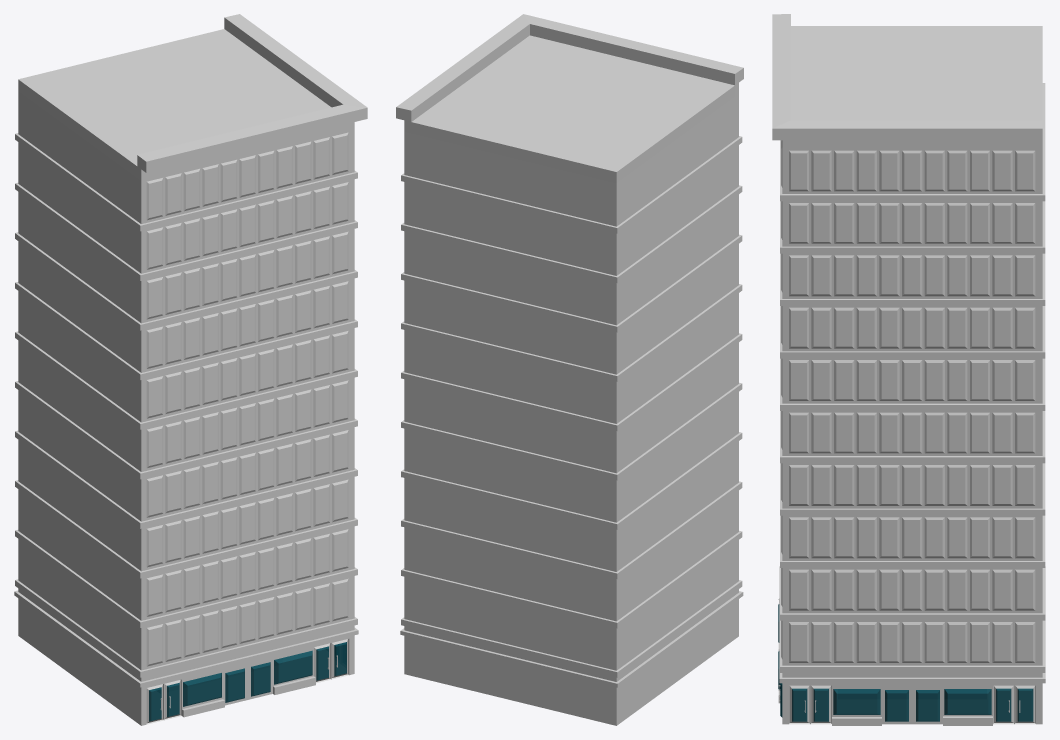
File: building_office_corner_02_medium.fbx
3 renders of one model, left to right at view 1: azimuth 30°, elevation 25°; view 2: azimuth 150°, elevation 25°; view 3: azimuth 270°, elevation 25°, orthographic. The views are drawn at different scales.
Parts seen in each view (by area): view 1: building_office_corner_02_medium, building_office_corner_02_medium_glass; view 2: building_office_corner_02_medium; view 3: building_office_corner_02_medium, building_office_corner_02_medium_glass.
Part boxes in pixels (x1,y1,x2,y2): building_office_corner_02_medium: (14,14,367,725); building_office_corner_02_medium_glass: (149,642,346,721); building_office_corner_02_medium: (396,14,743,725); building_office_corner_02_medium: (772,14,1045,725); building_office_corner_02_medium_glass: (778,604,1033,721).
Bounding box in the file's own units: 1893 × 4583 × 1893.
